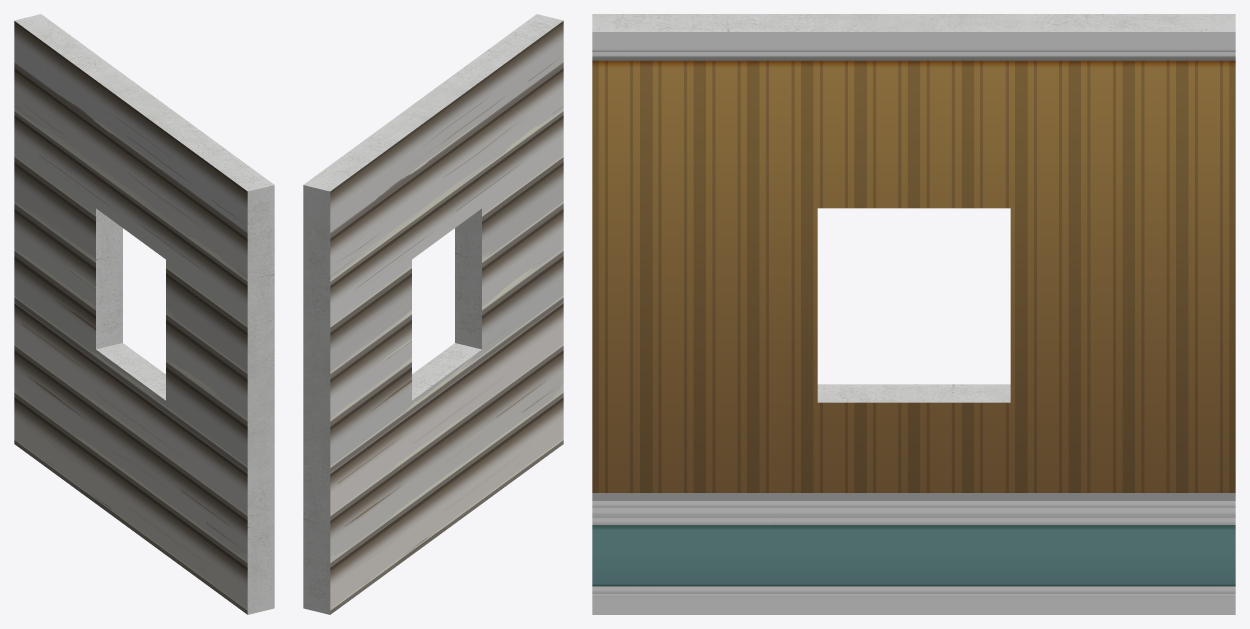
The model's file is wall01_window1m_B.fbx.
3 renders of one model, left to right at view 1: azimuth 30°, elevation 25°; view 2: azimuth 150°, elevation 25°; view 3: azimuth 270°, elevation 25°, orthographic. The views are drawn at different scales.
Visible parts, largest first — view 1: wall01_window1m_B; view 2: wall01_window1m_B; view 3: wall01_window1m_B.
Boxes of the visible parts, <box> form: wall01_window1m_B: <box>14,14,274,614</box>; wall01_window1m_B: <box>303,14,563,614</box>; wall01_window1m_B: <box>592,14,1235,614</box>.
Size of the model in its own units: 20 by 300 by 300.
